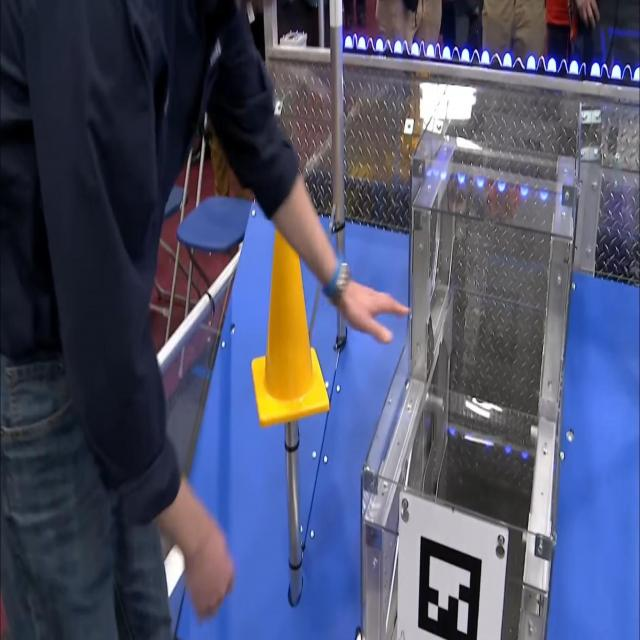frc_cone: (247, 189, 339, 434)
